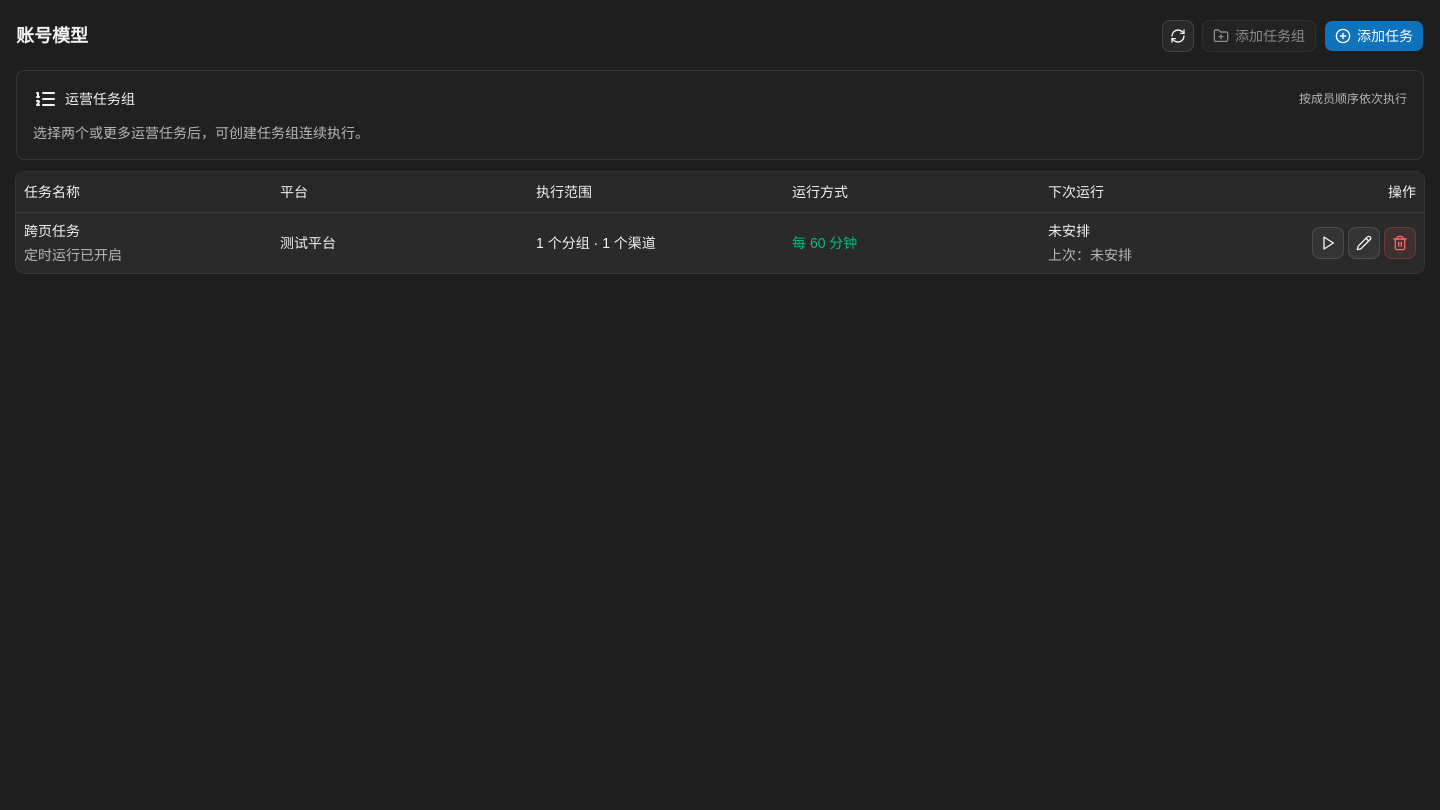
it: 关闭编辑弹窗时中止已选渠道详情请求且迟到结果不重新打开
Click the button named "编辑": (1364, 242) x1=1348 y1=226 x2=1380 y2=258
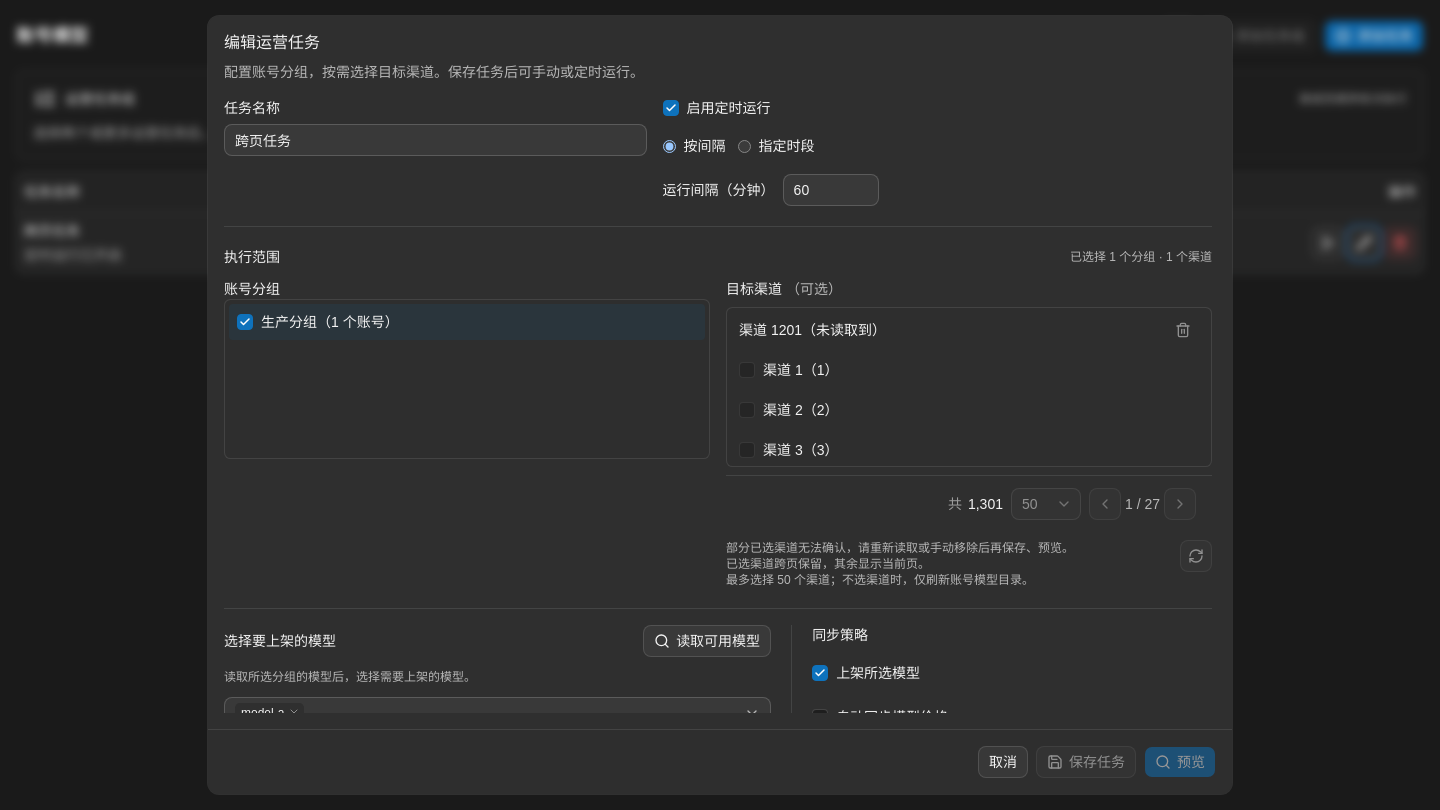
Press Escape
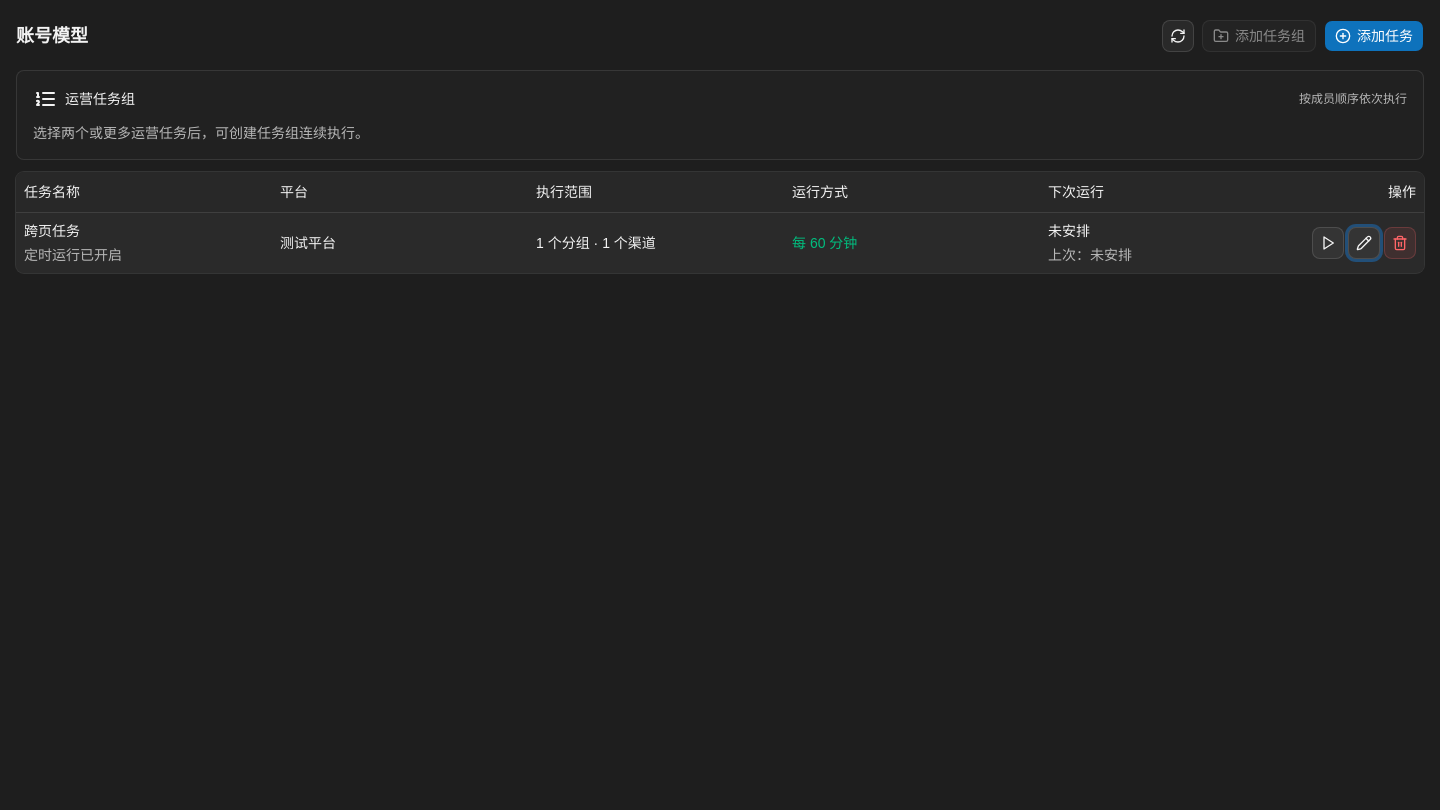
Check: the dialog is gone
